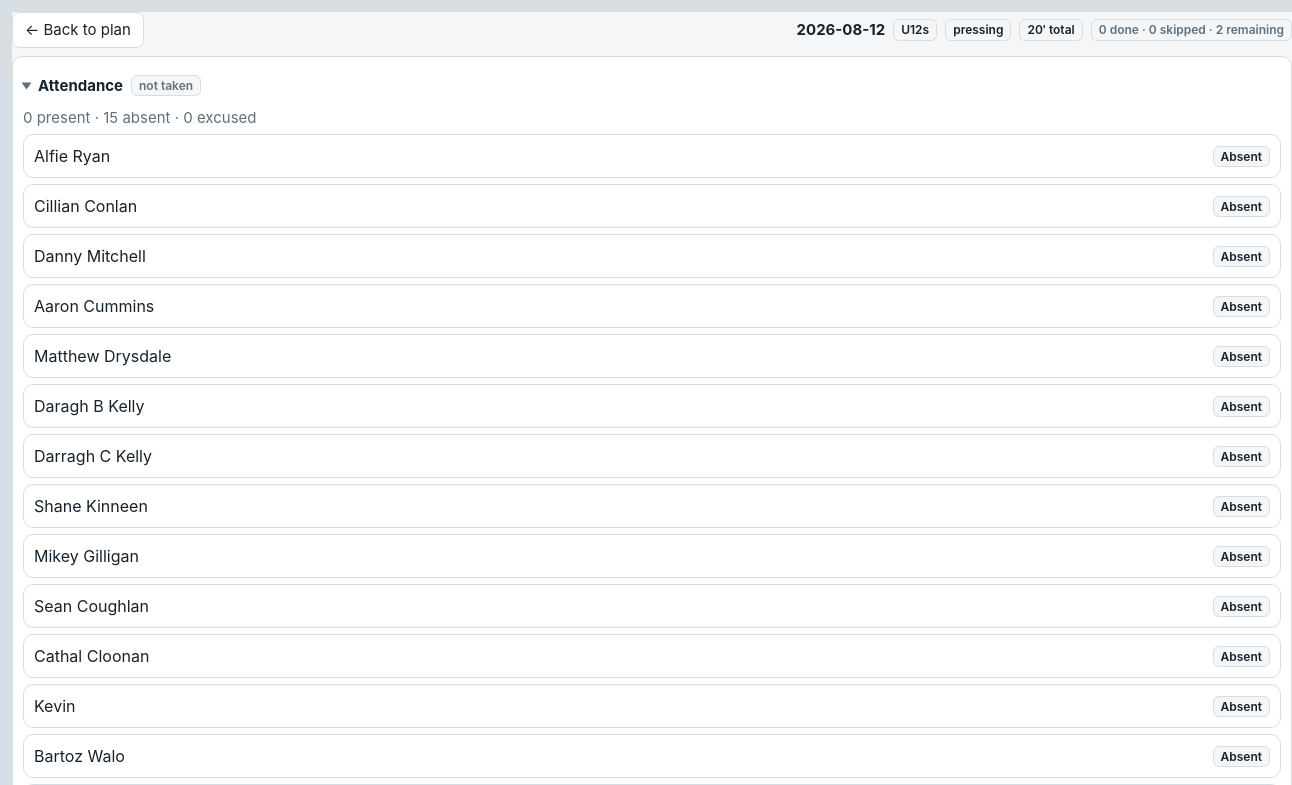
Test: SessionRun attendance › a tap writes to this device first, then reports the register upward with its time
Click the button with class "attendance-row" showing "Cillian Conlan Absent" at (86,206), box [23, 184, 1281, 228]
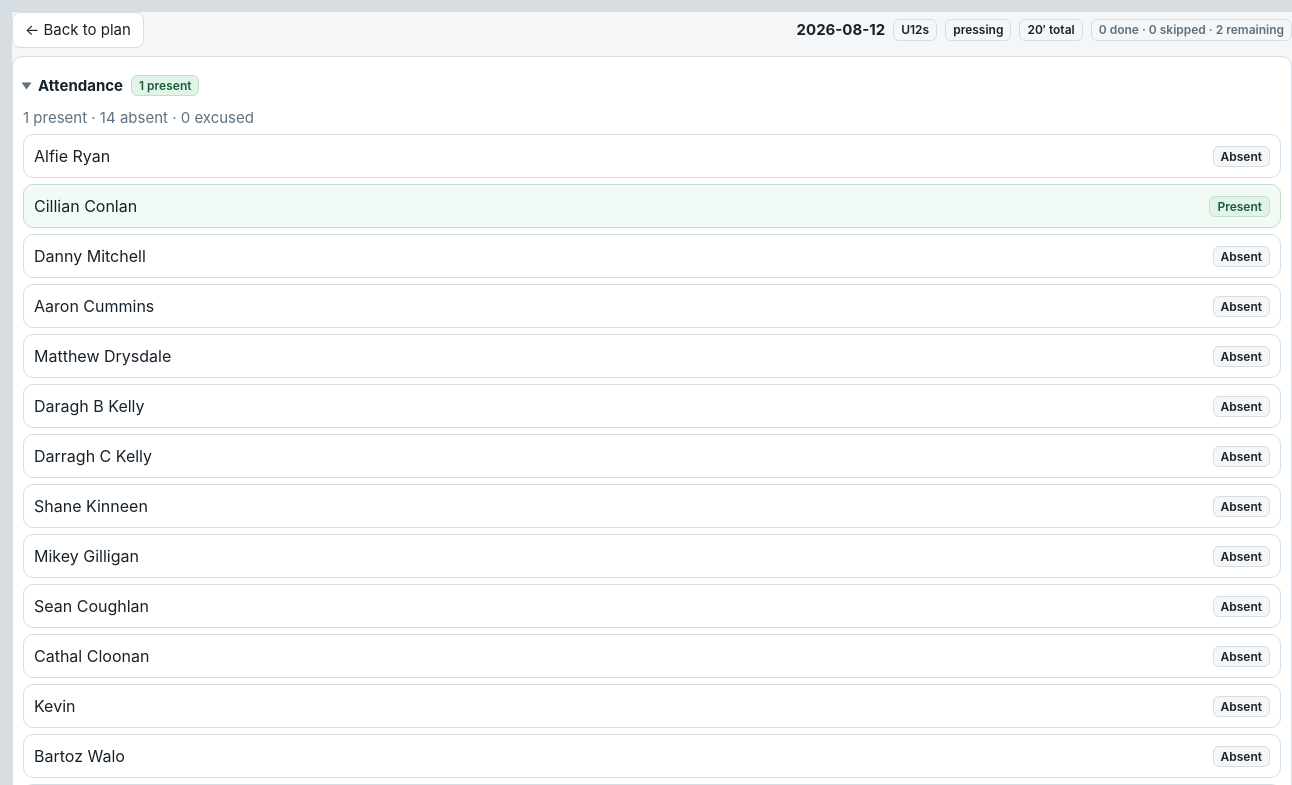
Check: the button with class "attendance-row" shows "Present", box [23, 184, 1281, 228]
